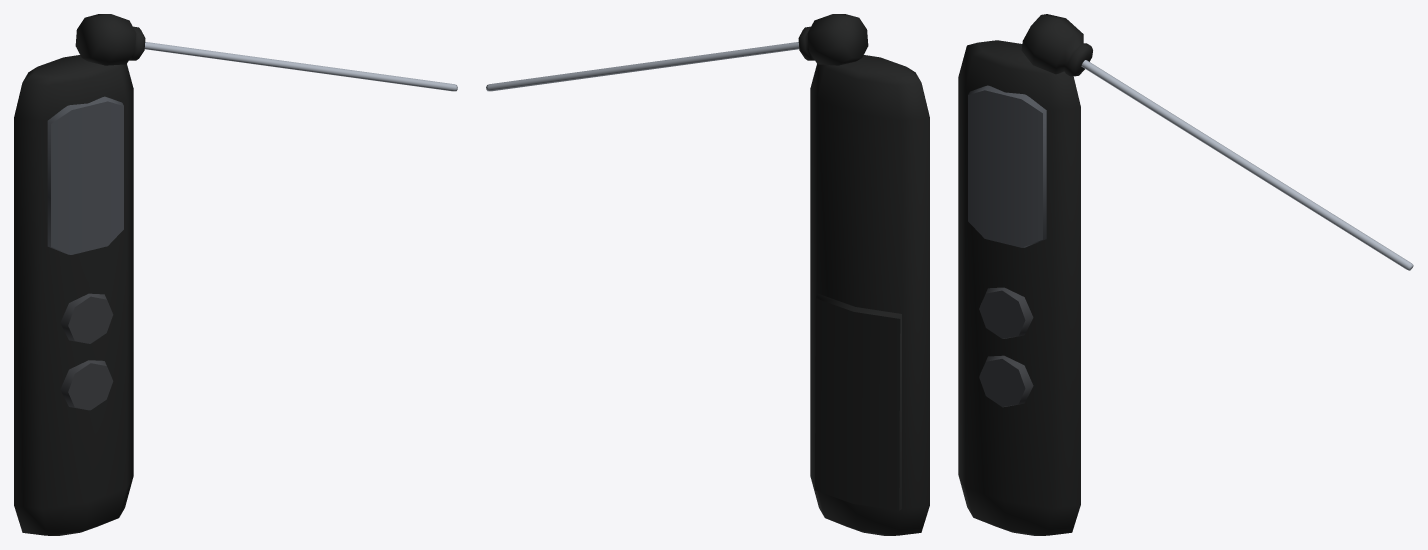
Rendered from cooking_assets_food_thermometer.glb.
The picture shows the model from 3 angles, left to right: view 1: azimuth 30°, elevation 25°; view 2: azimuth 150°, elevation 25°; view 3: azimuth 330°, elevation 25°; orthographic projection. The views are drawn at different scales.
Visible parts, largest first — view 1: thermometer_Cylinder.149; view 2: thermometer_Cylinder.149; view 3: thermometer_Cylinder.149.
Boxes of the visible parts, x1,y1,x2,y2 form: thermometer_Cylinder.149: [14, 14, 457, 535]; thermometer_Cylinder.149: [486, 14, 929, 535]; thermometer_Cylinder.149: [958, 14, 1413, 535].
Size of the model in its own units: 3.26 by 3.55 by 0.4375.
1 material, 1 textured.
